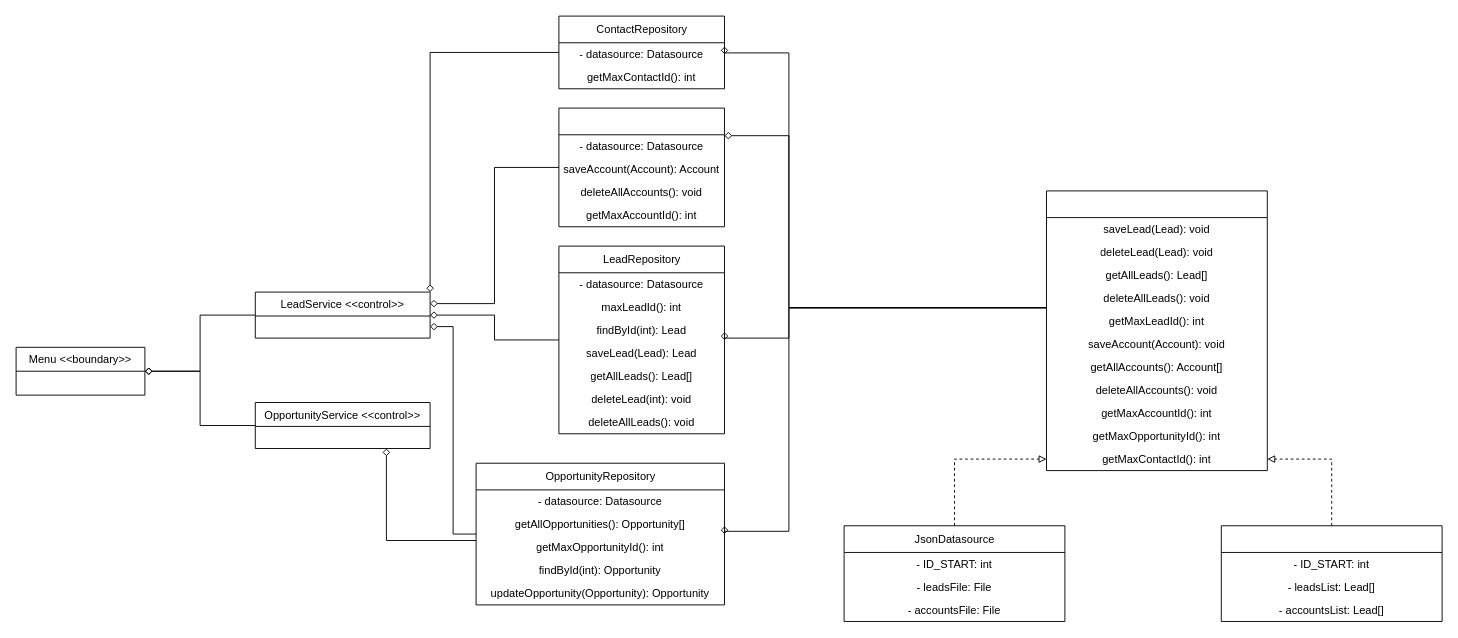
Some shapes in this 1458 by 638 pixel diagram are drawn without their labels. Each missing label, with the box of its shape:
AccountRepository: (558, 107, 724, 227)
Datasource <<interface>>: (1046, 190, 1267, 471)
InMemoryDatasource: (1220, 525, 1442, 621)
